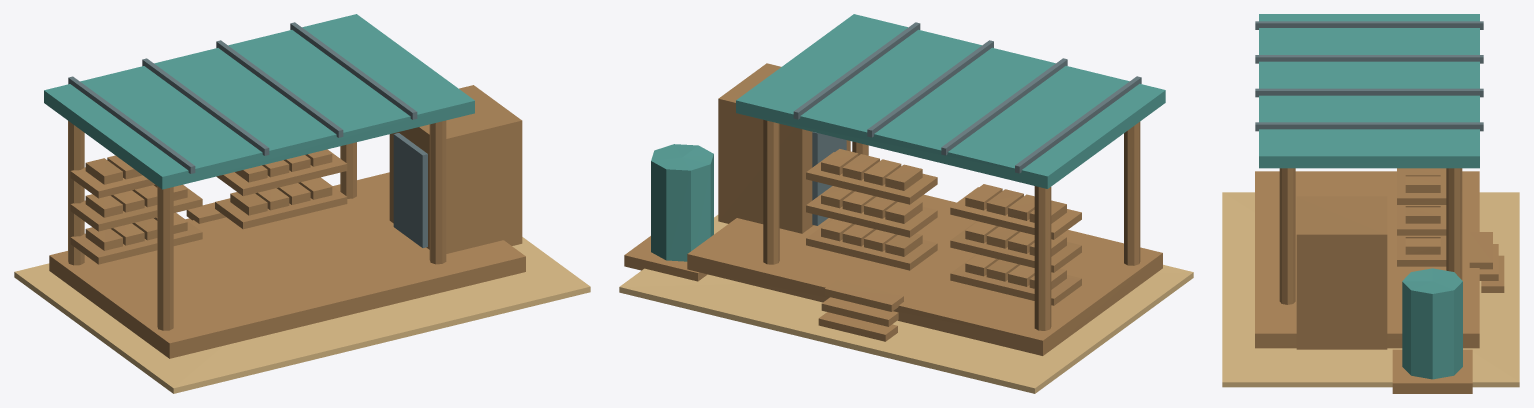
Rendered from Reforestation-Station.glb.
3 views of the same model, side by side, from view 1: azimuth 30°, elevation 25°; view 2: azimuth 150°, elevation 25°; view 3: azimuth 270°, elevation 25° (orthographic). The views are drawn at different scales.
Visible parts, largest first — view 1: reforestation-station-static-reforest-timber, reforestation-station-static-reforest-teal-roof, reforestation-station-static-reforest-earth, reforestation-station-static-reforest-metal, reforestation-station-static-reforest-seedling; view 2: reforestation-station-static-reforest-timber, reforestation-station-static-reforest-teal-roof, reforestation-station-static-reforest-earth, reforestation-station-static-reforest-seedling, reforestation-station-static-reforest-metal; view 3: reforestation-station-static-reforest-timber, reforestation-station-static-reforest-teal-roof, reforestation-station-static-reforest-earth, reforestation-station-static-reforest-metal, reforestation-station-static-reforest-seedling.
Part boxes in pixels (box(x1,y1,x2,y2)): reforestation-station-static-reforest-timber: box(49, 85, 525, 358); reforestation-station-static-reforest-teal-roof: box(44, 14, 474, 189); reforestation-station-static-reforest-earth: box(14, 237, 590, 393); reforestation-station-static-reforest-metal: box(68, 22, 427, 247); reforestation-station-static-reforest-seedling: box(85, 149, 332, 250); reforestation-station-static-reforest-timber: box(624, 63, 1162, 355); reforestation-station-static-reforest-teal-roof: box(651, 14, 1165, 261); reforestation-station-static-reforest-earth: box(619, 215, 1193, 393); reforestation-station-static-reforest-seedling: box(821, 149, 1066, 289); reforestation-station-static-reforest-metal: box(793, 22, 1141, 225); reforestation-station-static-reforest-timber: box(1255, 168, 1504, 393); reforestation-station-static-reforest-teal-roof: box(1259, 14, 1479, 379); reforestation-station-static-reforest-earth: box(1222, 192, 1519, 387); reforestation-station-static-reforest-metal: box(1255, 21, 1483, 131); reforestation-station-static-reforest-seedling: box(1405, 168, 1440, 254).
Bounding box in the file's own units: 6.5 × 2.92 × 4.1.
